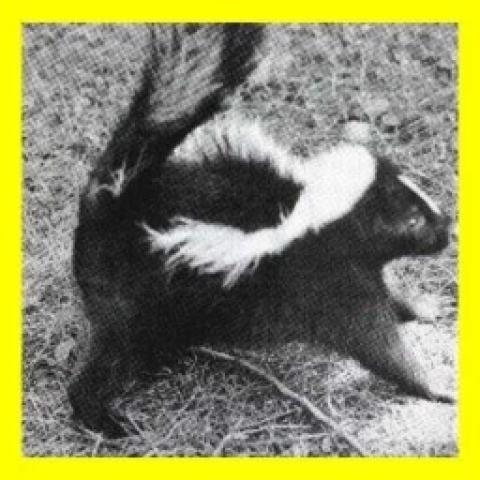small_animal: (21, 22, 460, 454)
